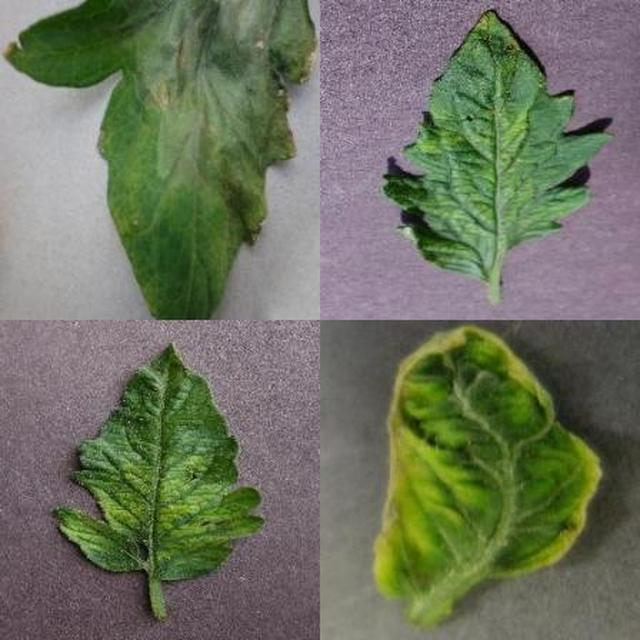Late Blight Leaf: (227, 206, 640, 640)
